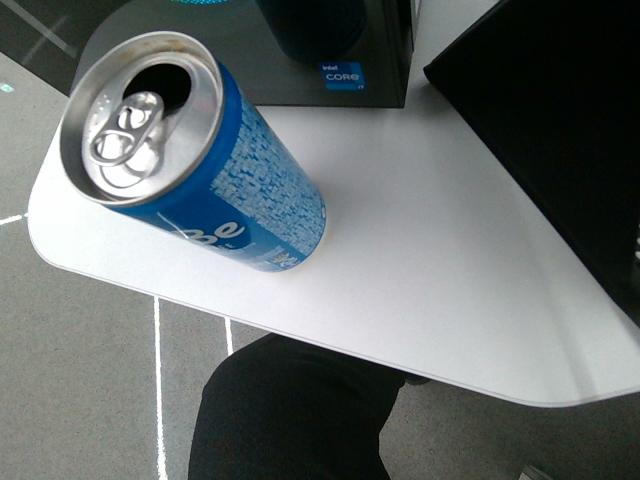letsbe: (59, 29, 328, 273)
